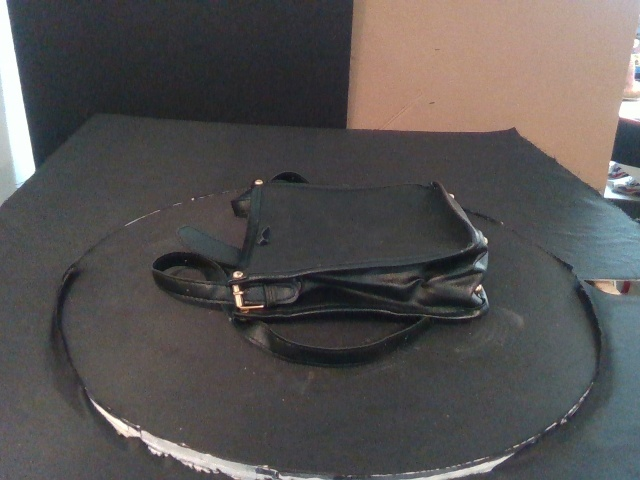bag: (233, 179, 490, 320)
